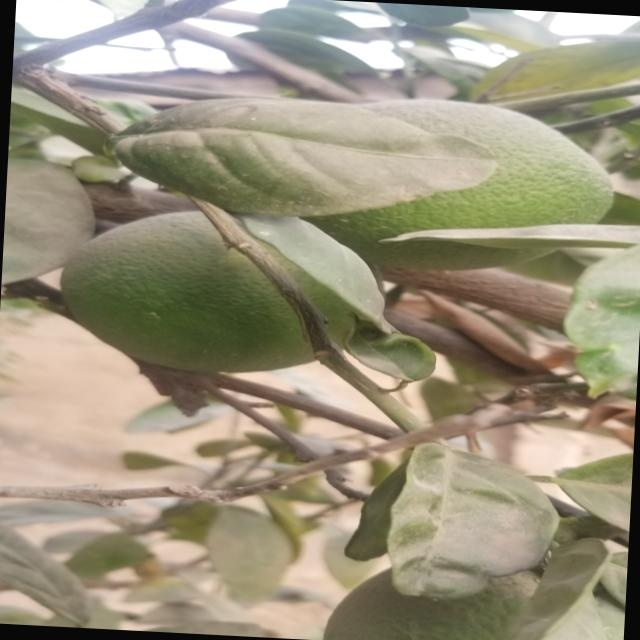agrume: (69, 203, 367, 384), (339, 95, 606, 283)
